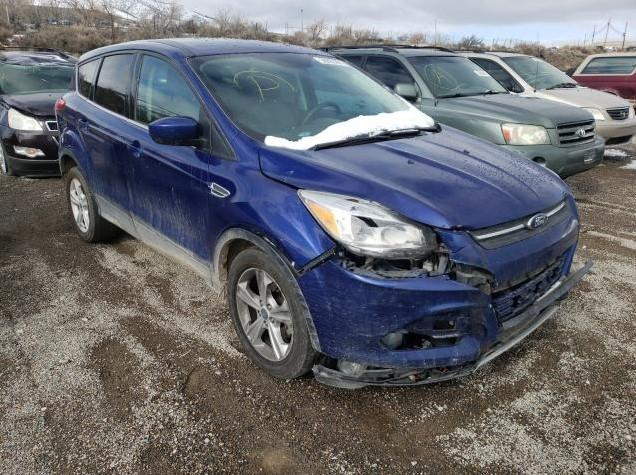Back-door: (71, 51, 134, 213)
Back-wheel: (66, 167, 105, 242)
Back-window: (92, 54, 132, 113), (79, 59, 101, 99)
Fender: (209, 132, 335, 280)
Front-bumper: (296, 197, 589, 389)
Front-door: (127, 52, 212, 269)
Front-wheel: (226, 246, 331, 380)
Front-window: (132, 55, 201, 123)
Grille: (471, 197, 570, 246)
Headlight: (299, 190, 437, 259)
Hood: (259, 121, 573, 230)
License-plate: (497, 255, 566, 318)
Mirror: (150, 117, 198, 146)
Quarter-panel: (55, 90, 83, 171)
Rocker-panel: (96, 193, 226, 301)
Roof: (133, 36, 331, 54)
Tail-light: (54, 97, 65, 114)
Windshield: (190, 53, 427, 149)
